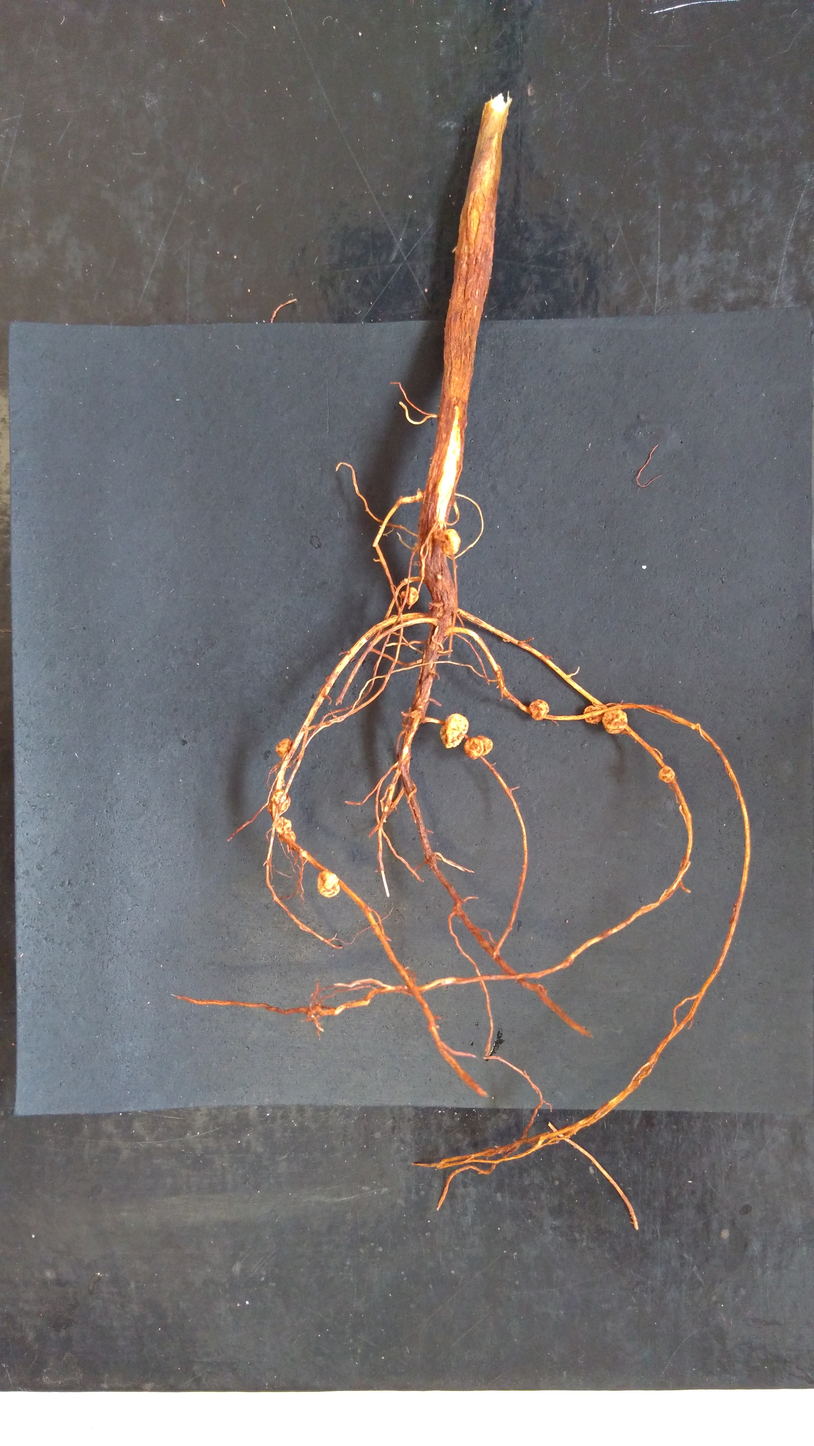nodule: (438, 712, 469, 750), (265, 788, 293, 817), (313, 869, 340, 899), (601, 709, 630, 735), (441, 526, 463, 559), (526, 697, 553, 723), (463, 736, 485, 761), (271, 815, 293, 838), (582, 704, 605, 726), (399, 585, 421, 607), (274, 737, 292, 760), (476, 733, 494, 756), (658, 765, 676, 784), (277, 829, 297, 845)
